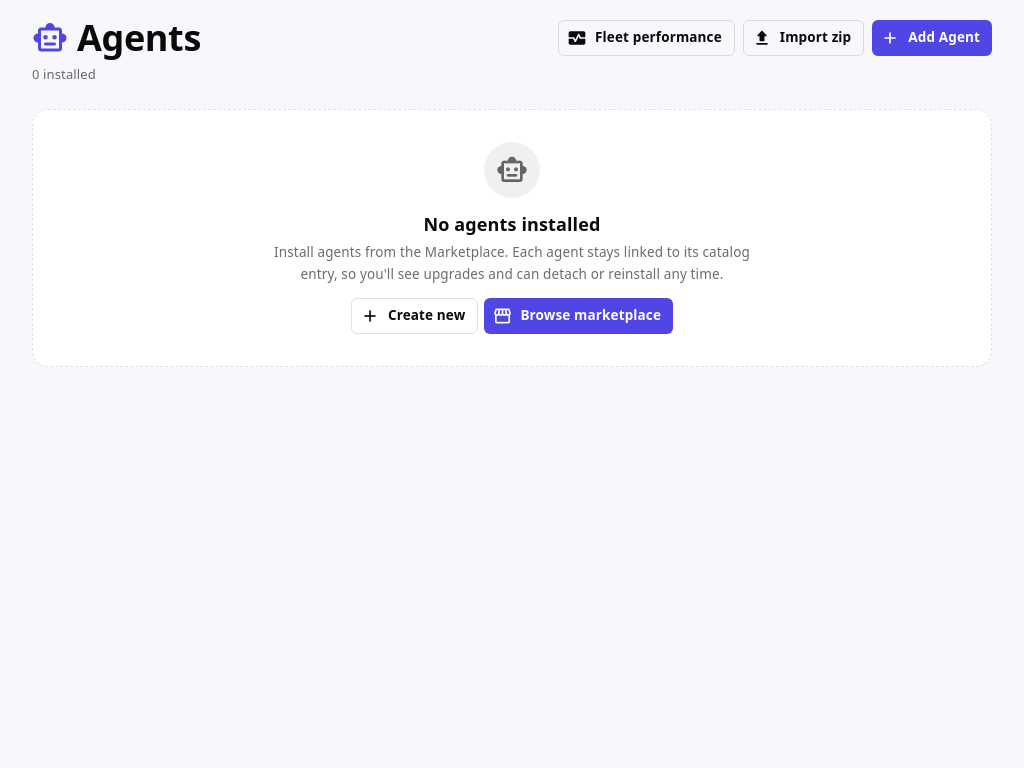
Test case: Agents page › opens Add Agent dialog when PageFab is clicked
Expected: the text "No agents installed" is shown, [424,212,601,236]
Note: PageFab renders a Fab with aria-label or title "Add Agent"
What coordinates should you click on to do the following:
click the button "Add Agent"
I would click on:
 (932, 38)
Its box is [872,20,992,56].
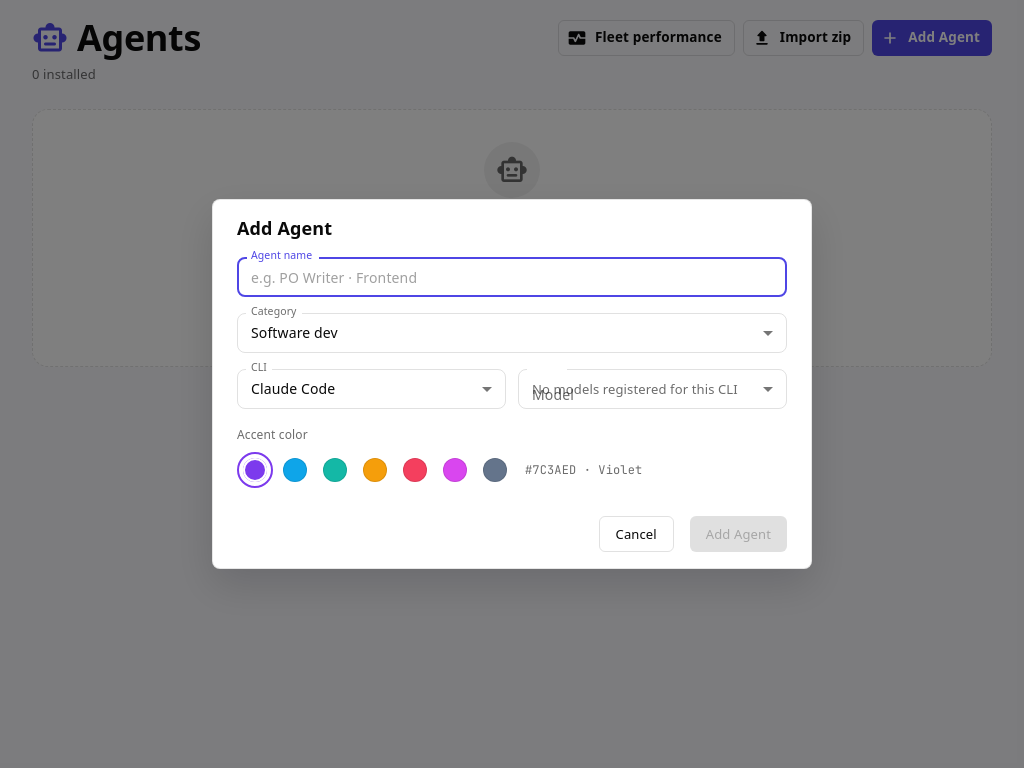
Now the dialog is shown, box [212,199,812,569]
Now the heading "Add Agent" is shown, box [237,216,332,240]
